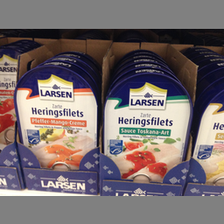fish: (104, 70, 193, 185), (14, 63, 100, 172)
